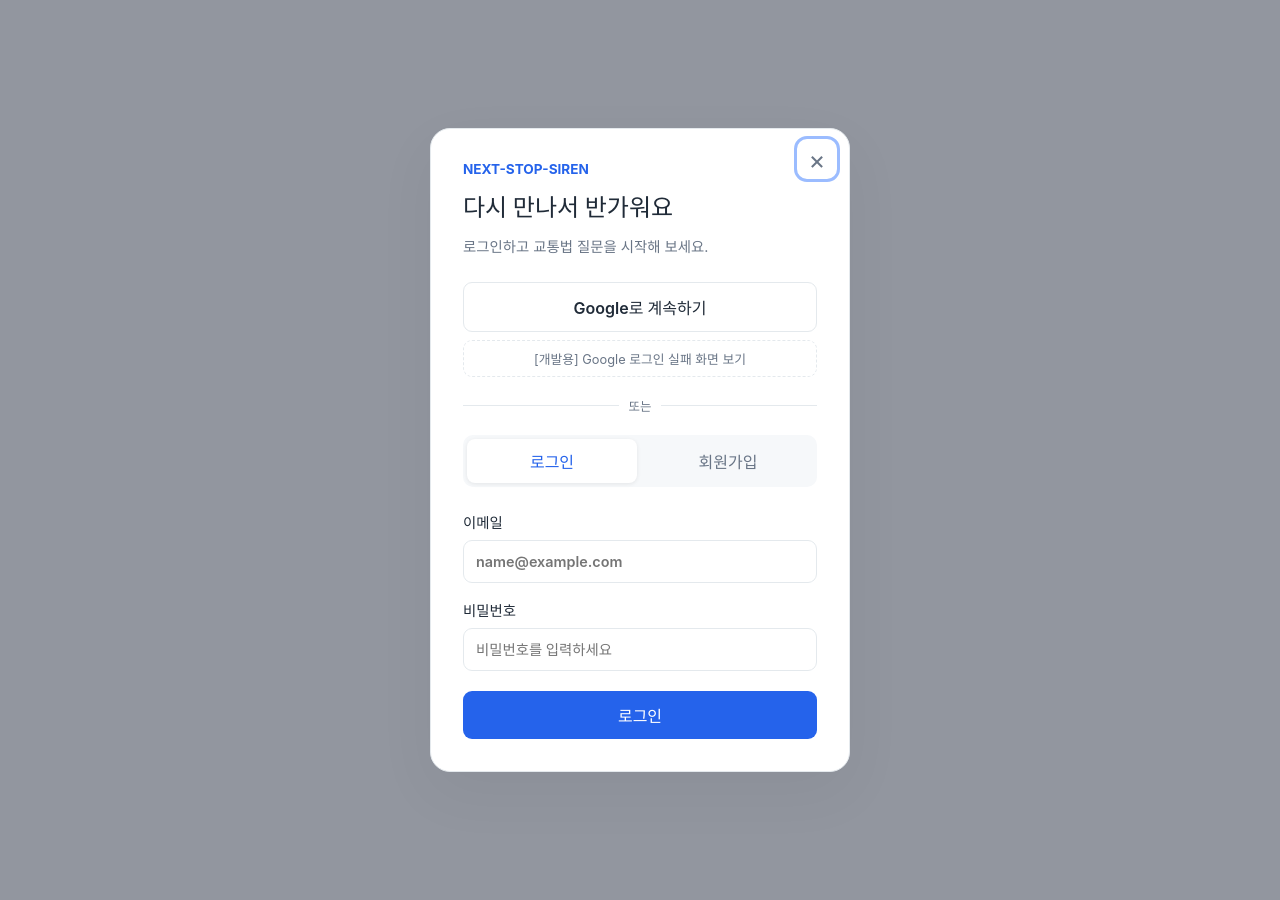
Scenario: 로그인 실패 시 에러 메시지를 보여주고 입력값을 유지한다
Type "wrong@test.com" into the field labelled "이메일" at (640, 561), box [463,540,817,583]
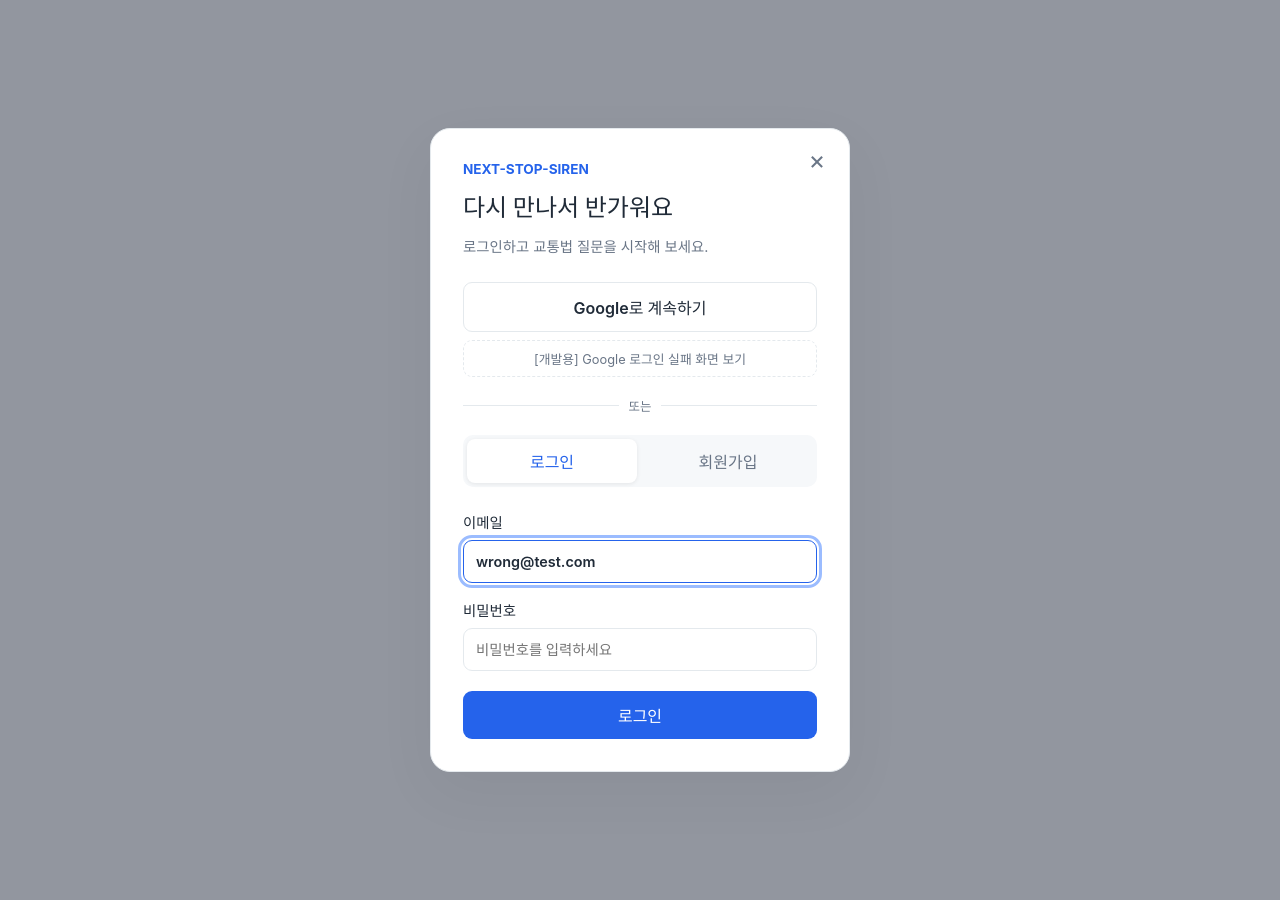
Type "wrongpassword123" into the password field labelled "비밀번호" at (640, 649), box [463,628,817,671]
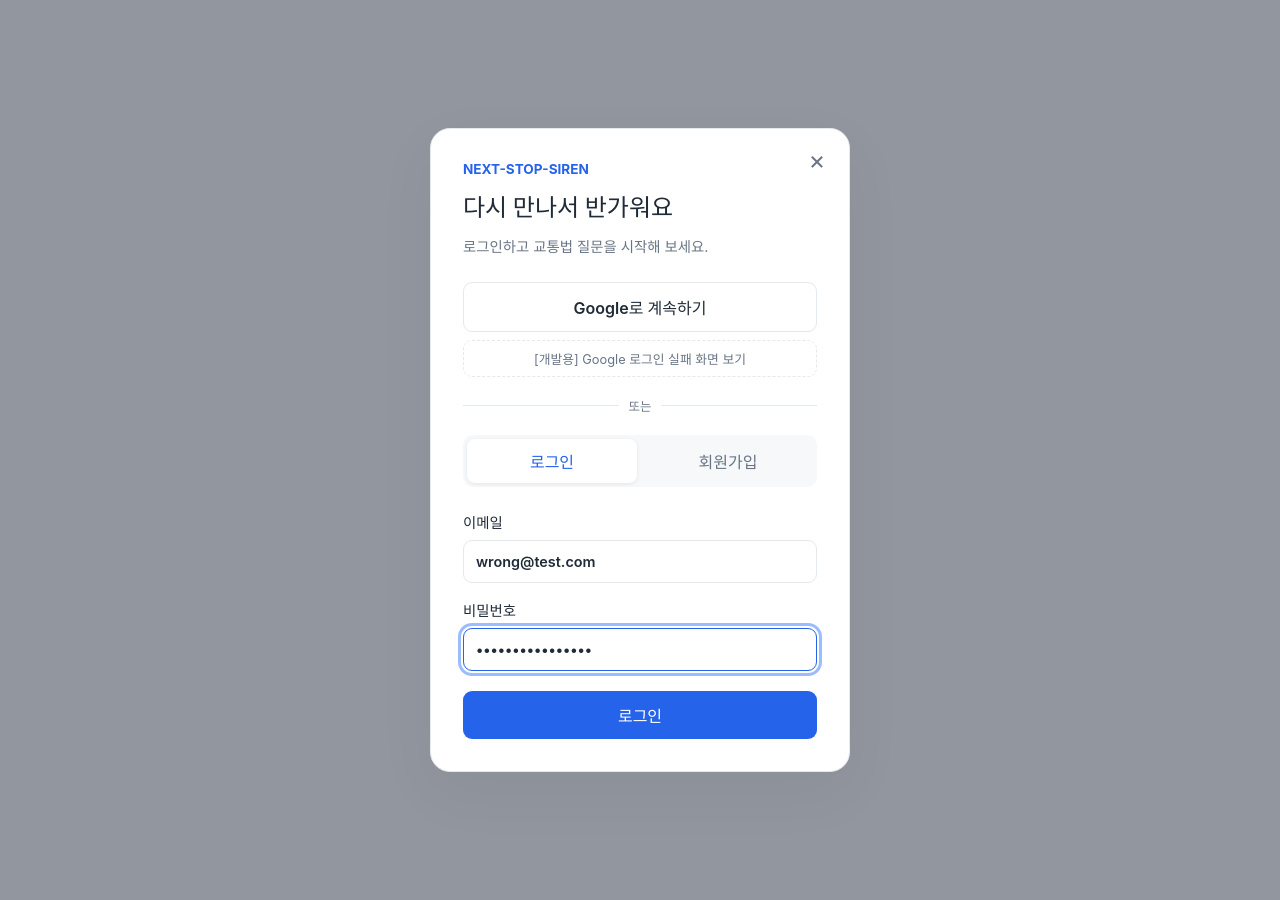
Click the submit button at (640, 715), box [463,691,817,739]
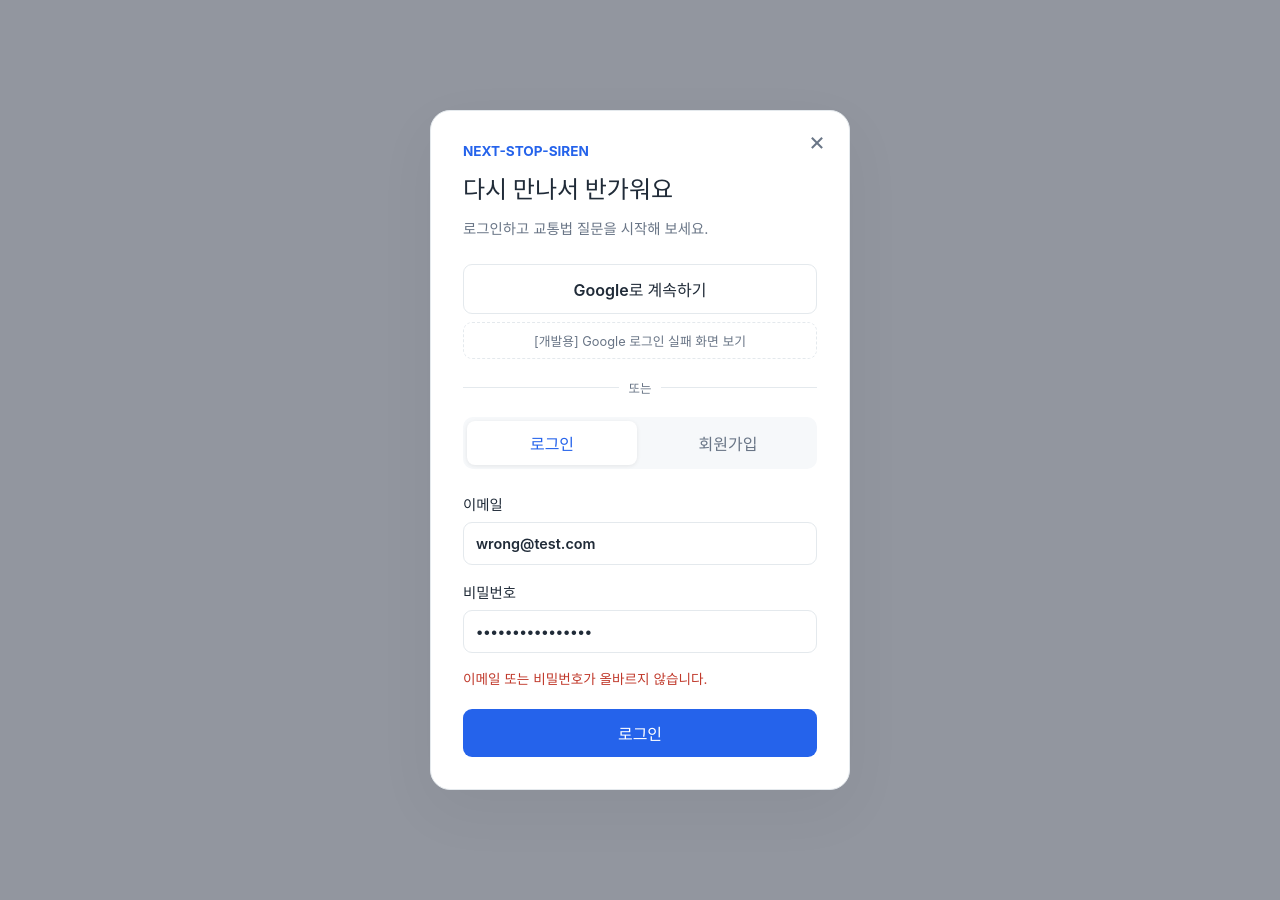
Result: the message reads "이메일 또는 비밀번호가 올바르지 않습니다." at [463,671,707,687]
